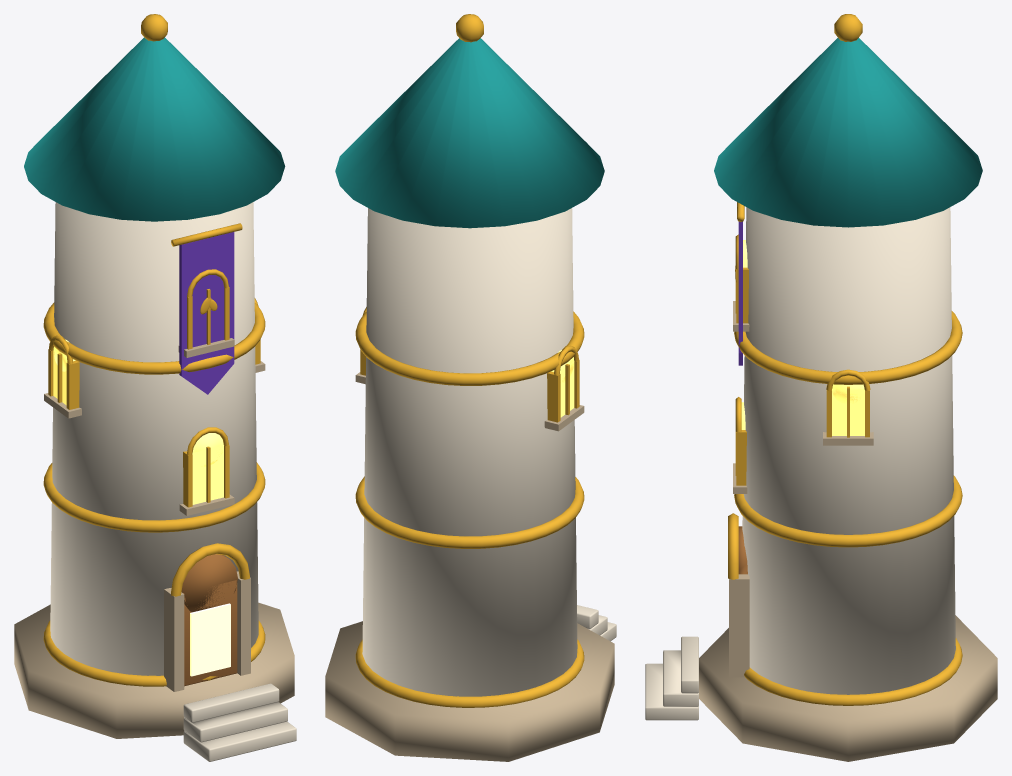
The model's file is turn_3.glb.
3 renders of one model, left to right at view 1: azimuth 30°, elevation 25°; view 2: azimuth 150°, elevation 25°; view 3: azimuth 270°, elevation 25°, orthographic. The views are drawn at different scales.
Visible parts, largest first — view 1: Turn.001; view 2: Turn.001; view 3: Turn.001.
Part boxes in pixels (x1=…): Turn.001: x1=14, y1=14, x2=296, y2=761; Turn.001: x1=325, y1=14, x2=616, y2=761; Turn.001: x1=645, y1=14, x2=997, y2=761.
Bounding box in the file's own units: 2 × 5.05 × 2.36.
